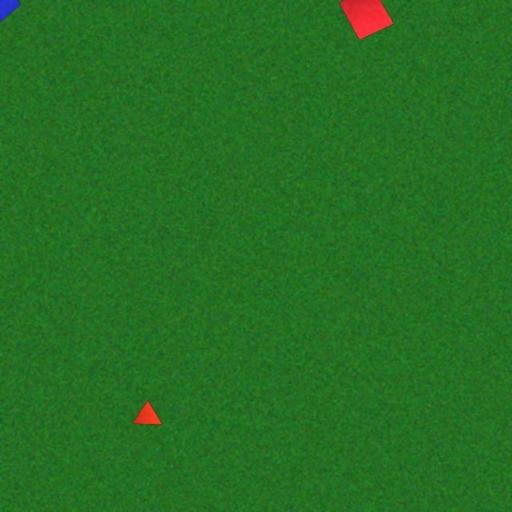RED_SQUARE: (338, 0, 396, 41)
